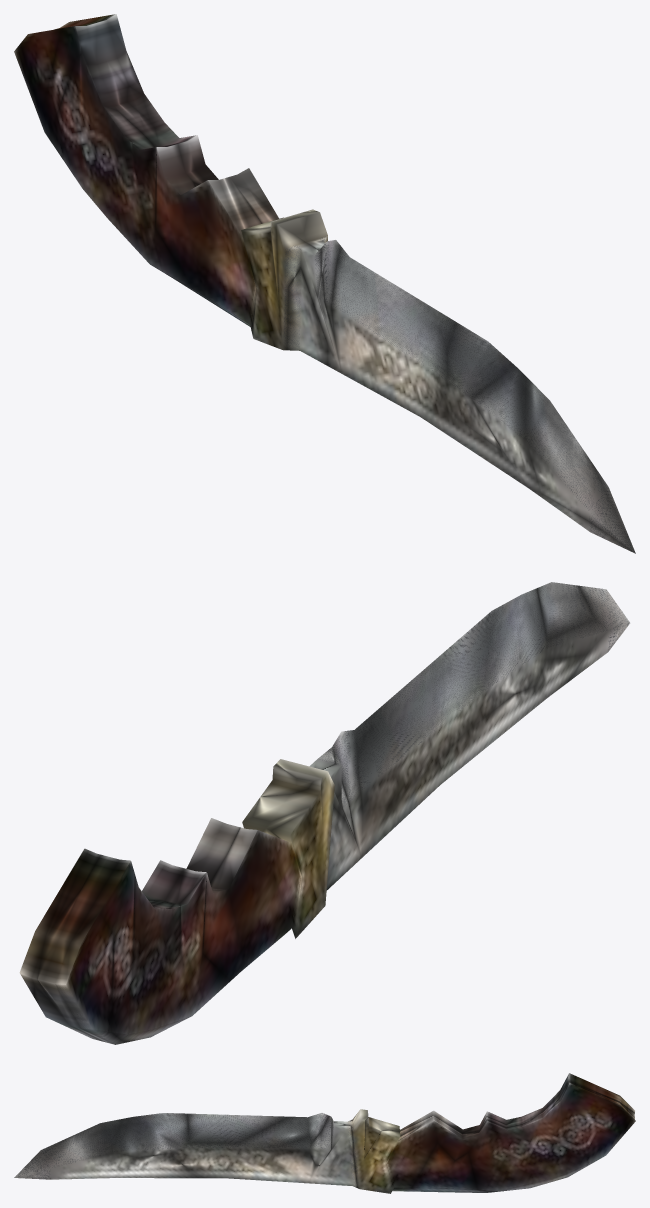
Rendered from model_align.obj.
3 renders of one model, top to bottom at view 1: azimuth 30°, elevation 25°; view 2: azimuth 150°, elevation 25°; view 3: azimuth 270°, elevation 25°, orthographic. The views are drawn at different scales.
Bounding box in the file's own units: 0.0136 × 0.0428 × 0.2188.
Materials: 1 (1 with a texture image).
